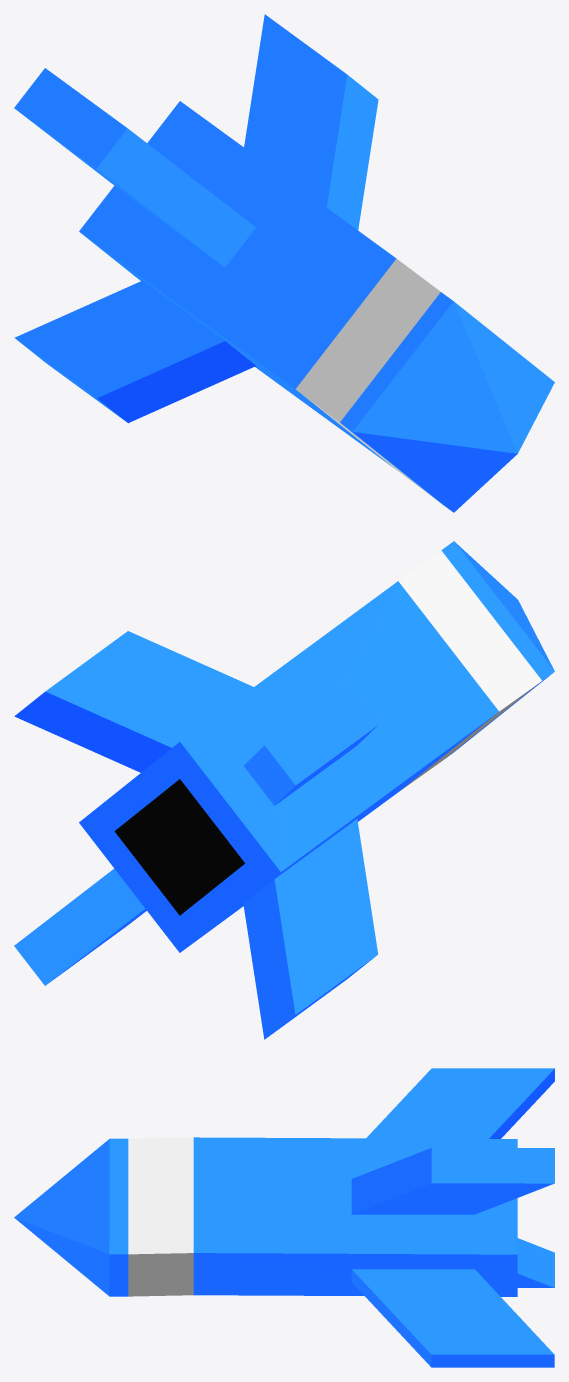
File: RocketProjectilePlayer.fbx
3 renders of one model, top to bottom at view 1: azimuth 30°, elevation 25°; view 2: azimuth 150°, elevation 25°; view 3: azimuth 270°, elevation 25°, orthographic. The views are drawn at different scales.
Parts seen in each view (by area): view 1: Projectile_Rocket; view 2: Projectile_Rocket; view 3: Projectile_Rocket.
Part boxes in pixels (box(x1,y1,x2,y2)): Projectile_Rocket: box(14, 14, 554, 512); Projectile_Rocket: box(14, 541, 554, 1039); Projectile_Rocket: box(14, 1068, 554, 1367).
Size of the model in its own units: 1.56 by 3.49 by 1.56.
